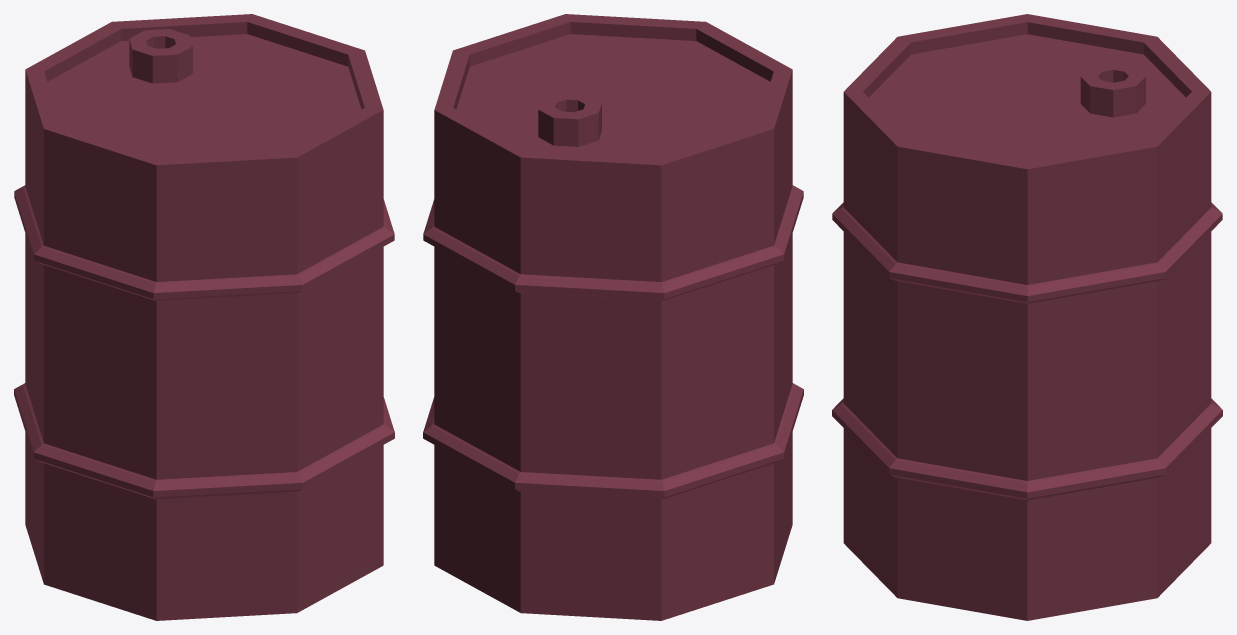
File: barrel.fbx
3 renders of one model, left to right at view 1: azimuth 30°, elevation 25°; view 2: azimuth 150°, elevation 25°; view 3: azimuth 270°, elevation 25°, orthographic.
Parts seen in each view (by area): view 1: Barrel; view 2: Barrel; view 3: Barrel.
Part boxes in pixels (x1,y1,x2,y2): Barrel: (14, 14, 394, 620); Barrel: (423, 14, 803, 620); Barrel: (832, 14, 1222, 620).
Bounding box in the file's own units: 36.82 × 48.56 × 36.82.
